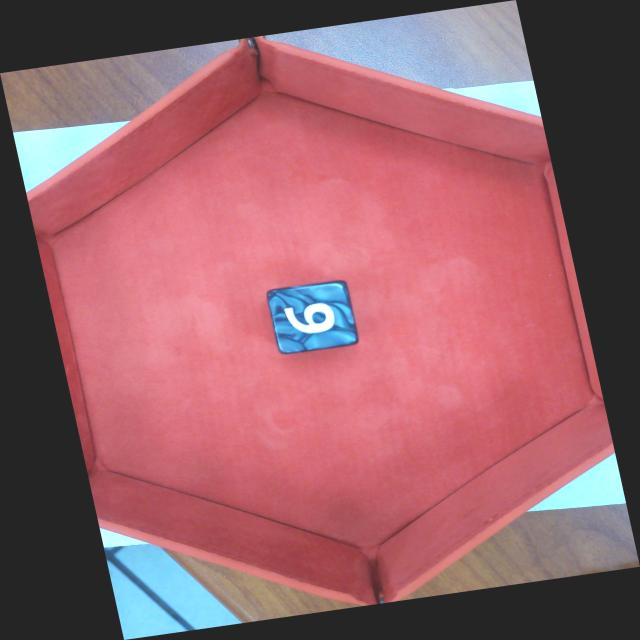dice: (269, 286, 354, 354)
